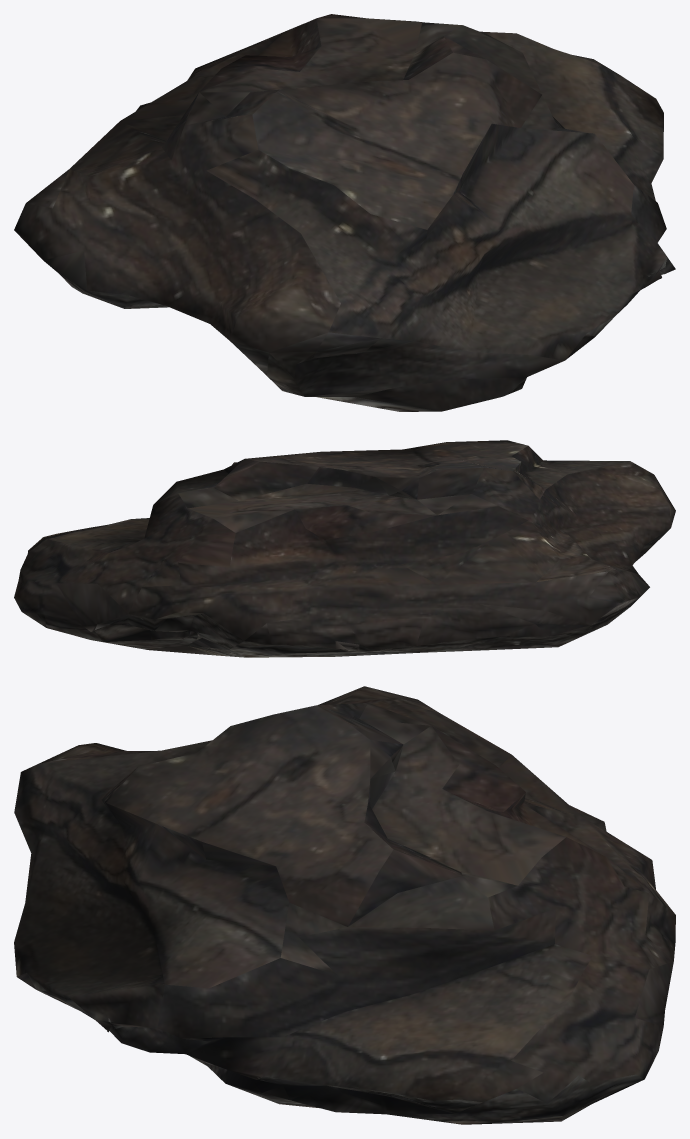
Rendered from woodchip.glb.
3 renders of one model, top to bottom at view 1: azimuth 30°, elevation 25°; view 2: azimuth 150°, elevation 25°; view 3: azimuth 270°, elevation 25°, orthographic. The views are drawn at different scales.
Parts seen in each view (by area): view 1: Bark01_0001; view 2: Bark01_0001; view 3: Bark01_0001.
Boxes of the visible parts, box(x1,y1,x2,y2) form: Bark01_0001: box(14, 14, 675, 411); Bark01_0001: box(14, 440, 675, 657); Bark01_0001: box(14, 686, 675, 1124).
Size of the model in its own units: 0.0442 by 0.0138 by 0.0363.
Materials: 1 (1 with a texture image).
